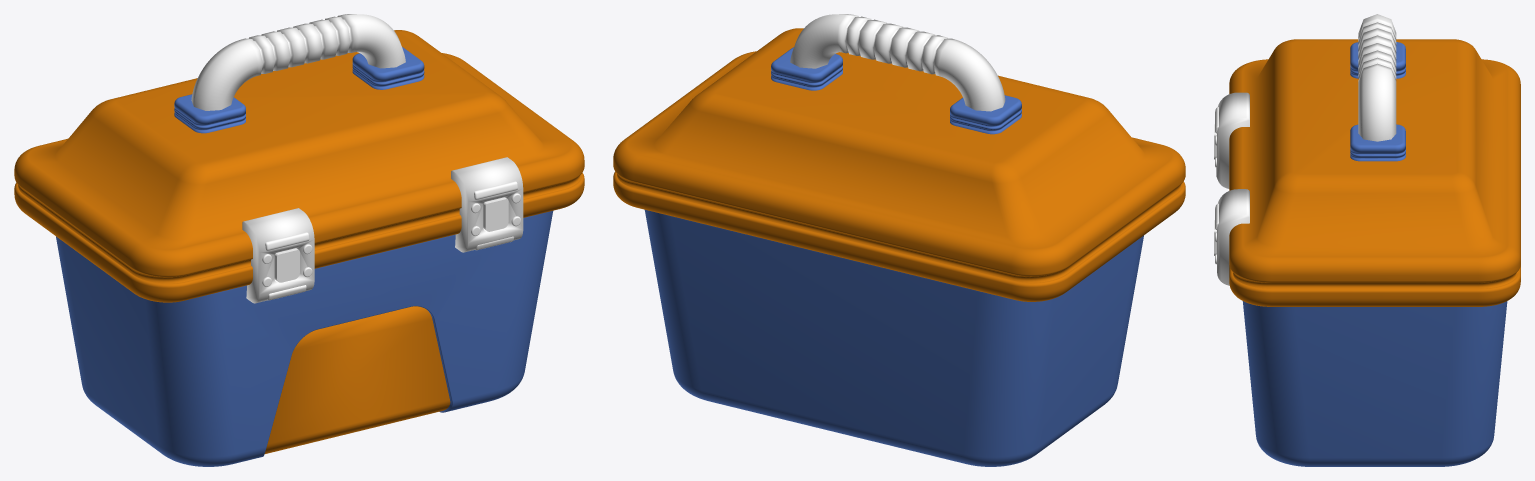
The model's file is supplybox.glb.
3 renders of one model, left to right at view 1: azimuth 30°, elevation 25°; view 2: azimuth 150°, elevation 25°; view 3: azimuth 270°, elevation 25°, orthographic. The views are drawn at different scales.
Parts seen in each view (by area): view 1: Cube.012; view 2: Cube.012; view 3: Cube.012.
Part boxes in pixels (x1,y1,x2,y2): Cube.012: (14, 14, 584, 466); Cube.012: (613, 14, 1185, 466); Cube.012: (1214, 14, 1520, 466).
Bounding box in the file's own units: 1.42 × 1.11 × 0.8876.
